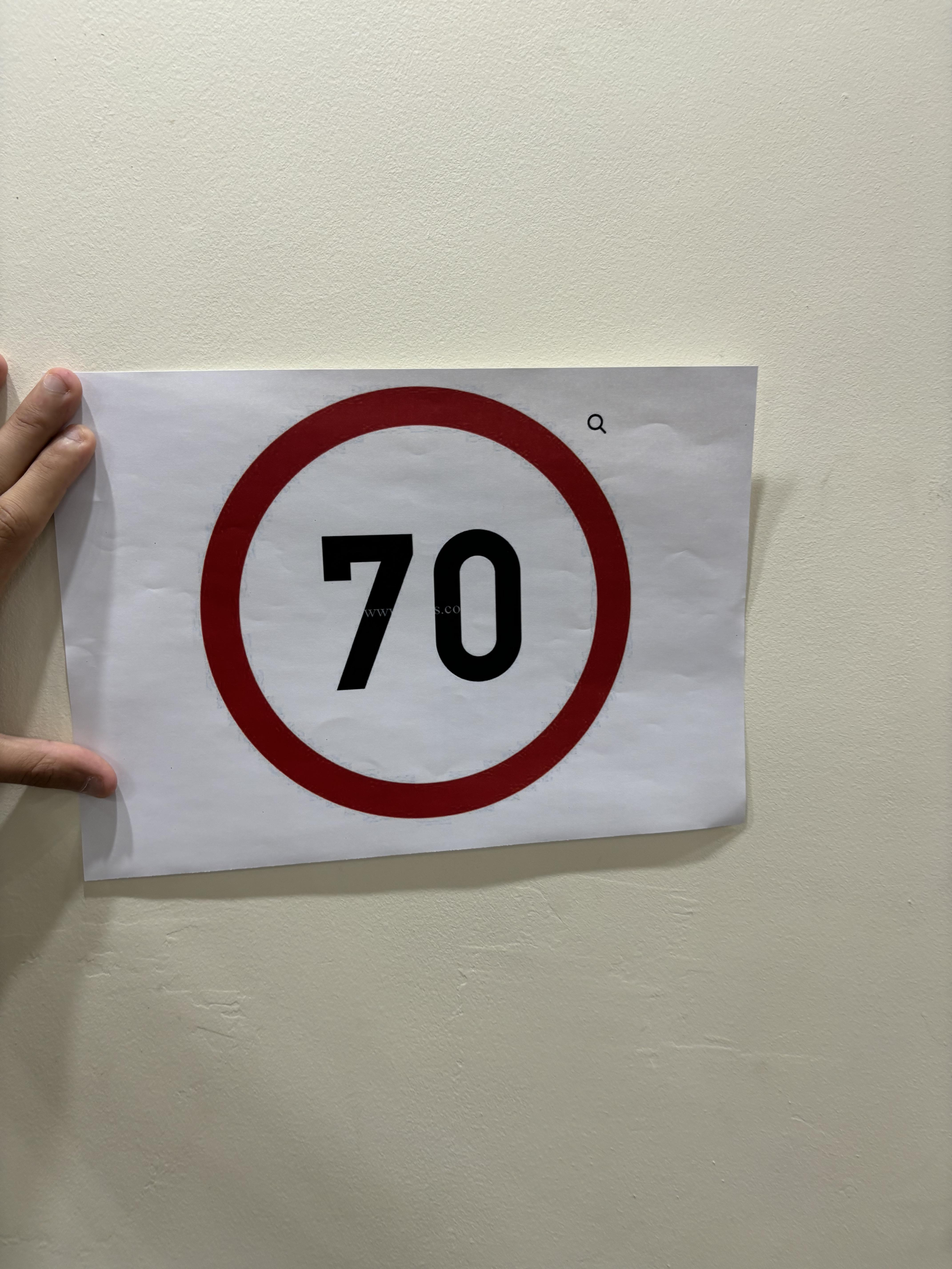70-Speed: (193, 375, 639, 828)
